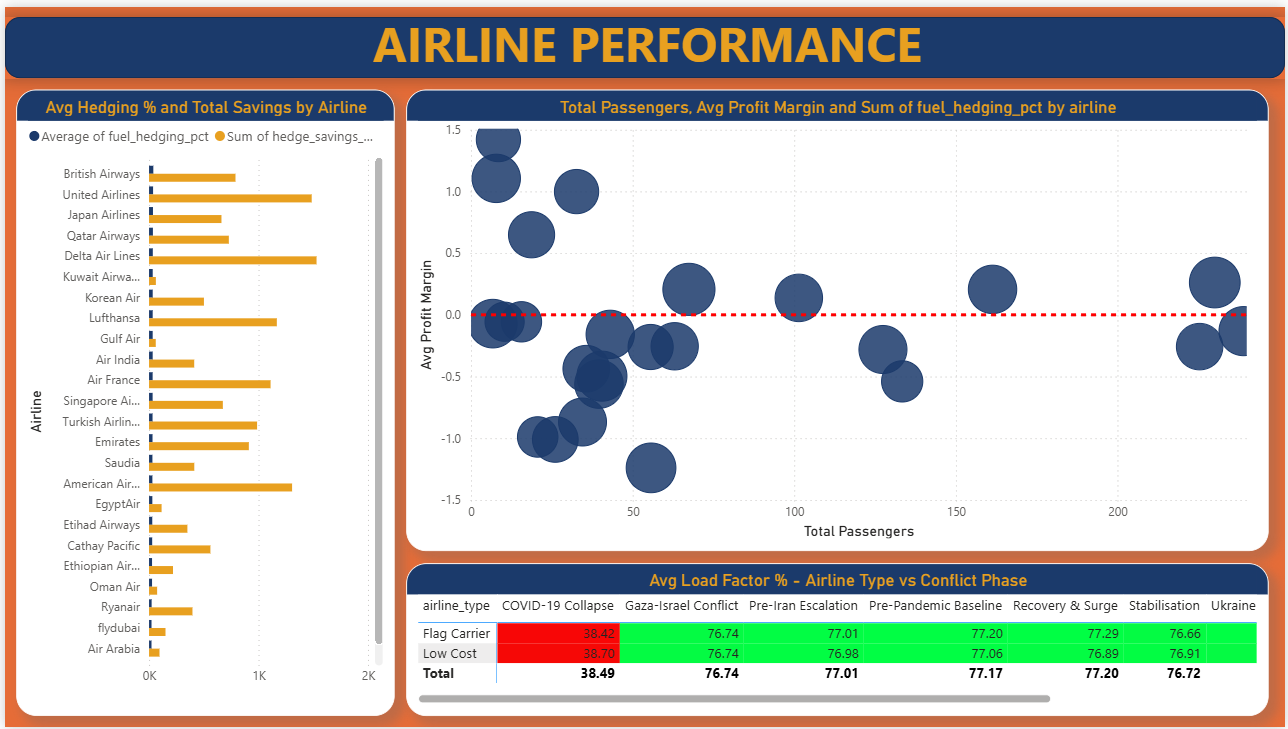

The page's visual inventory and layout, read from the dashboard file:
{"tool":"powerbi","page":{"name":"Airline Performance","canvas":[1280,720],"ordinal":4},"visuals":[{"type":"clusteredBarChart","title":"Avg Hedging % and Total Savings by Airline","fields":{"Category":["airline_financial_impact.airline"],"Y":["Avg(airline_financial_impact.fuel_hedging_pct)","Sum(airline_financial_impact.hedge_savings_usd_m)"]},"box":[11.2,82.5,378.8,626.2],"z":0},{"type":"shape","box":[0,10,1280,61.2],"z":1000},{"type":"textbox","box":[20.8,9.8,1242.4,81.9],"z":2000},{"type":"scatterChart","fields":{"Category":["airline_financial_impact.airline"],"X":["airline_financial_impact.Total Passengers"],"Y":["airline_financial_impact.Avg Profit Margin"],"Size":["Sum(airline_financial_impact.fuel_hedging_pct)"]},"box":[401.2,82.5,862.5,461.2],"z":3000},{"type":"pivotTable","title":"Avg Load Factor % - Airline Type vs Conflict Phase","fields":{"Rows":["airline_ticket_prices.airline_type"],"Columns":["airline_ticket_prices.conflict_phase"],"Values":["airline_financial_impact.Avg Load Factor %"]},"box":[401.2,556.2,862.5,152.5],"z":4000}]}

Visuals, with their boxes in screenshot pixels (x1, y1, x2, y2), scaled from the page's 1280x720 canvas onto the 1288x729 screenshot:
"Avg Hedging % and Total Savings by Airline" clusteredBarChart: x1=11 y1=84 x2=392 y2=718
shape: x1=0 y1=10 x2=1287 y2=72
textbox: x1=21 y1=10 x2=1271 y2=93
scatterChart - airline_financial_impact.airline x airline_financial_impact.Total Passengers: x1=404 y1=84 x2=1272 y2=550
"Avg Load Factor % - Airline Type vs Conflict Phase" pivotTable: x1=404 y1=563 x2=1272 y2=718
